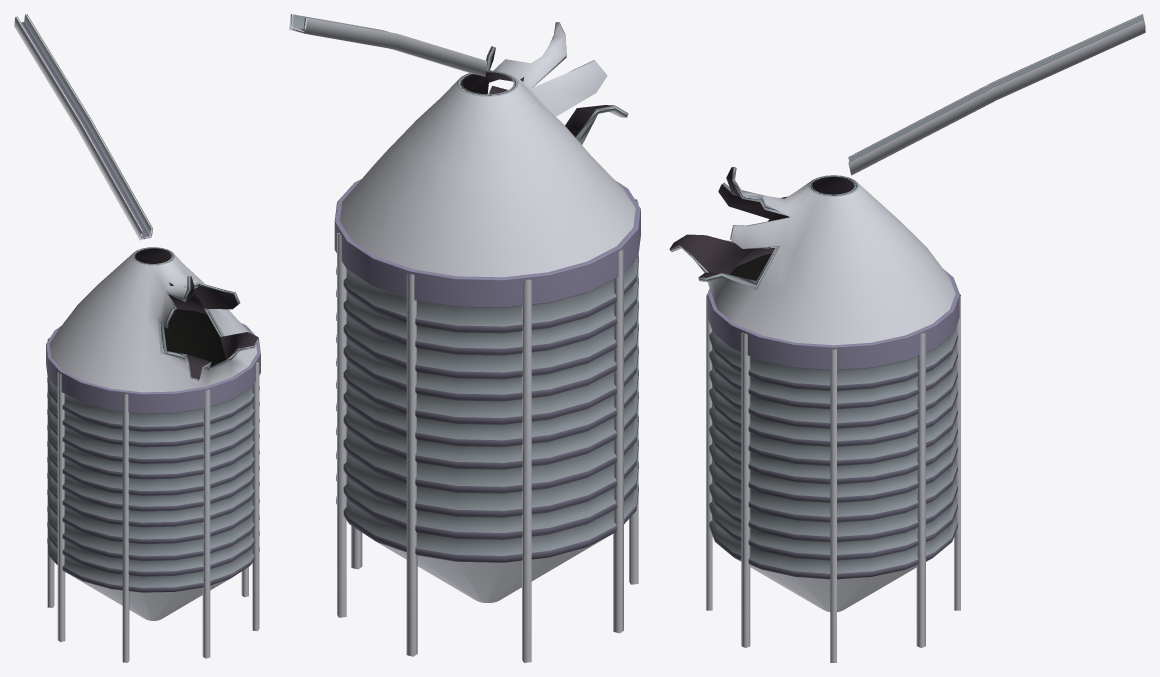
File: Silo.fbx
The picture shows the model from 3 angles, left to right: view 1: azimuth 30°, elevation 25°; view 2: azimuth 150°, elevation 25°; view 3: azimuth 270°, elevation 25°; orthographic projection. The views are drawn at different scales.
Parts seen in each view (by area): view 1: Silo; view 2: Silo; view 3: Silo.
Boxes of the visible parts, x1=… form: Silo: x1=14, y1=14, x2=260, y2=662; Silo: x1=289, y1=14, x2=640, y2=662; Silo: x1=669, y1=14, x2=1145, y2=662.
Size of the model in its own units: 223 by 573 by 418.
